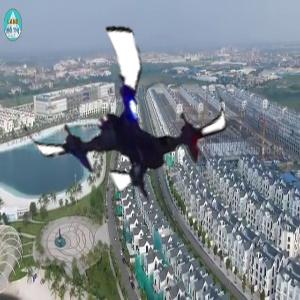drone: (20, 10, 229, 219)
